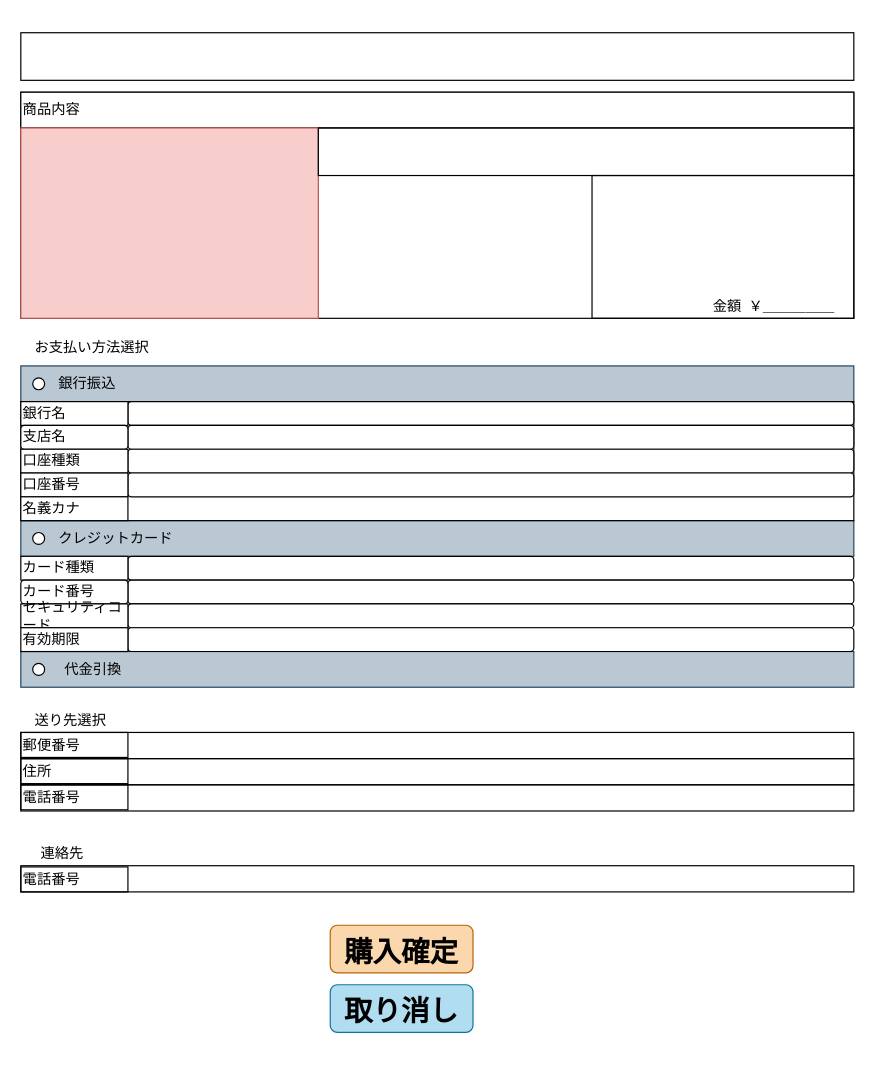
The diagram is 875 pixels wide and 1069 high, and some of its shapes have lost their labels. The shapes that lost their labels are listed below. From the top down, each one's centre as x and y in pixels, then its label:
the point at 437,56: 購入手続き
the point at 585,151: タイトル CL
the point at 169,222: 写真
